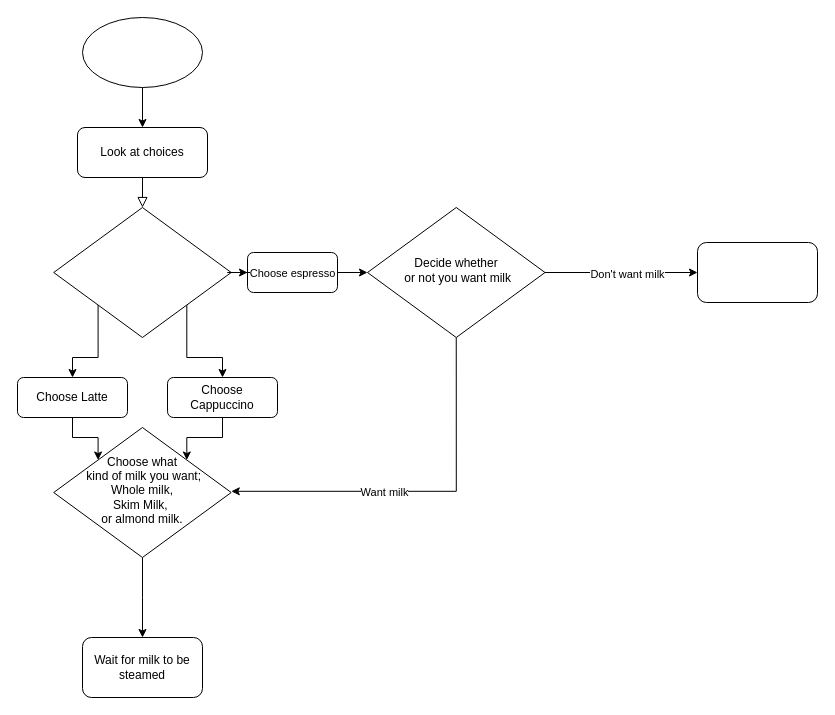
Image size: 835x715. Some labels were removed from this diagram. Each missing label, with the box of its shape:
Choose between an Espresso, Latte, or Cappuccino: (53, 206, 231, 338)
Turn on coffee machine: (82, 16, 202, 88)
Wait for machine to pour cofee: (696, 242, 818, 302)
